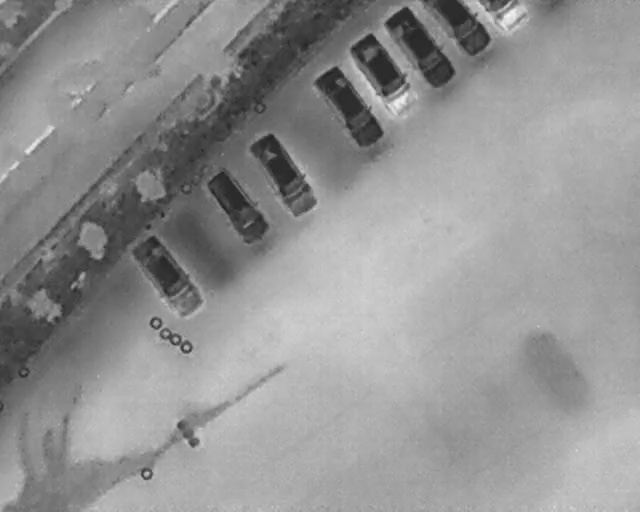Car: (123, 226, 212, 326), (242, 125, 327, 224), (341, 26, 427, 123), (306, 58, 391, 156), (376, 0, 462, 95), (198, 162, 276, 250), (422, 0, 492, 56), (476, 0, 531, 35)
